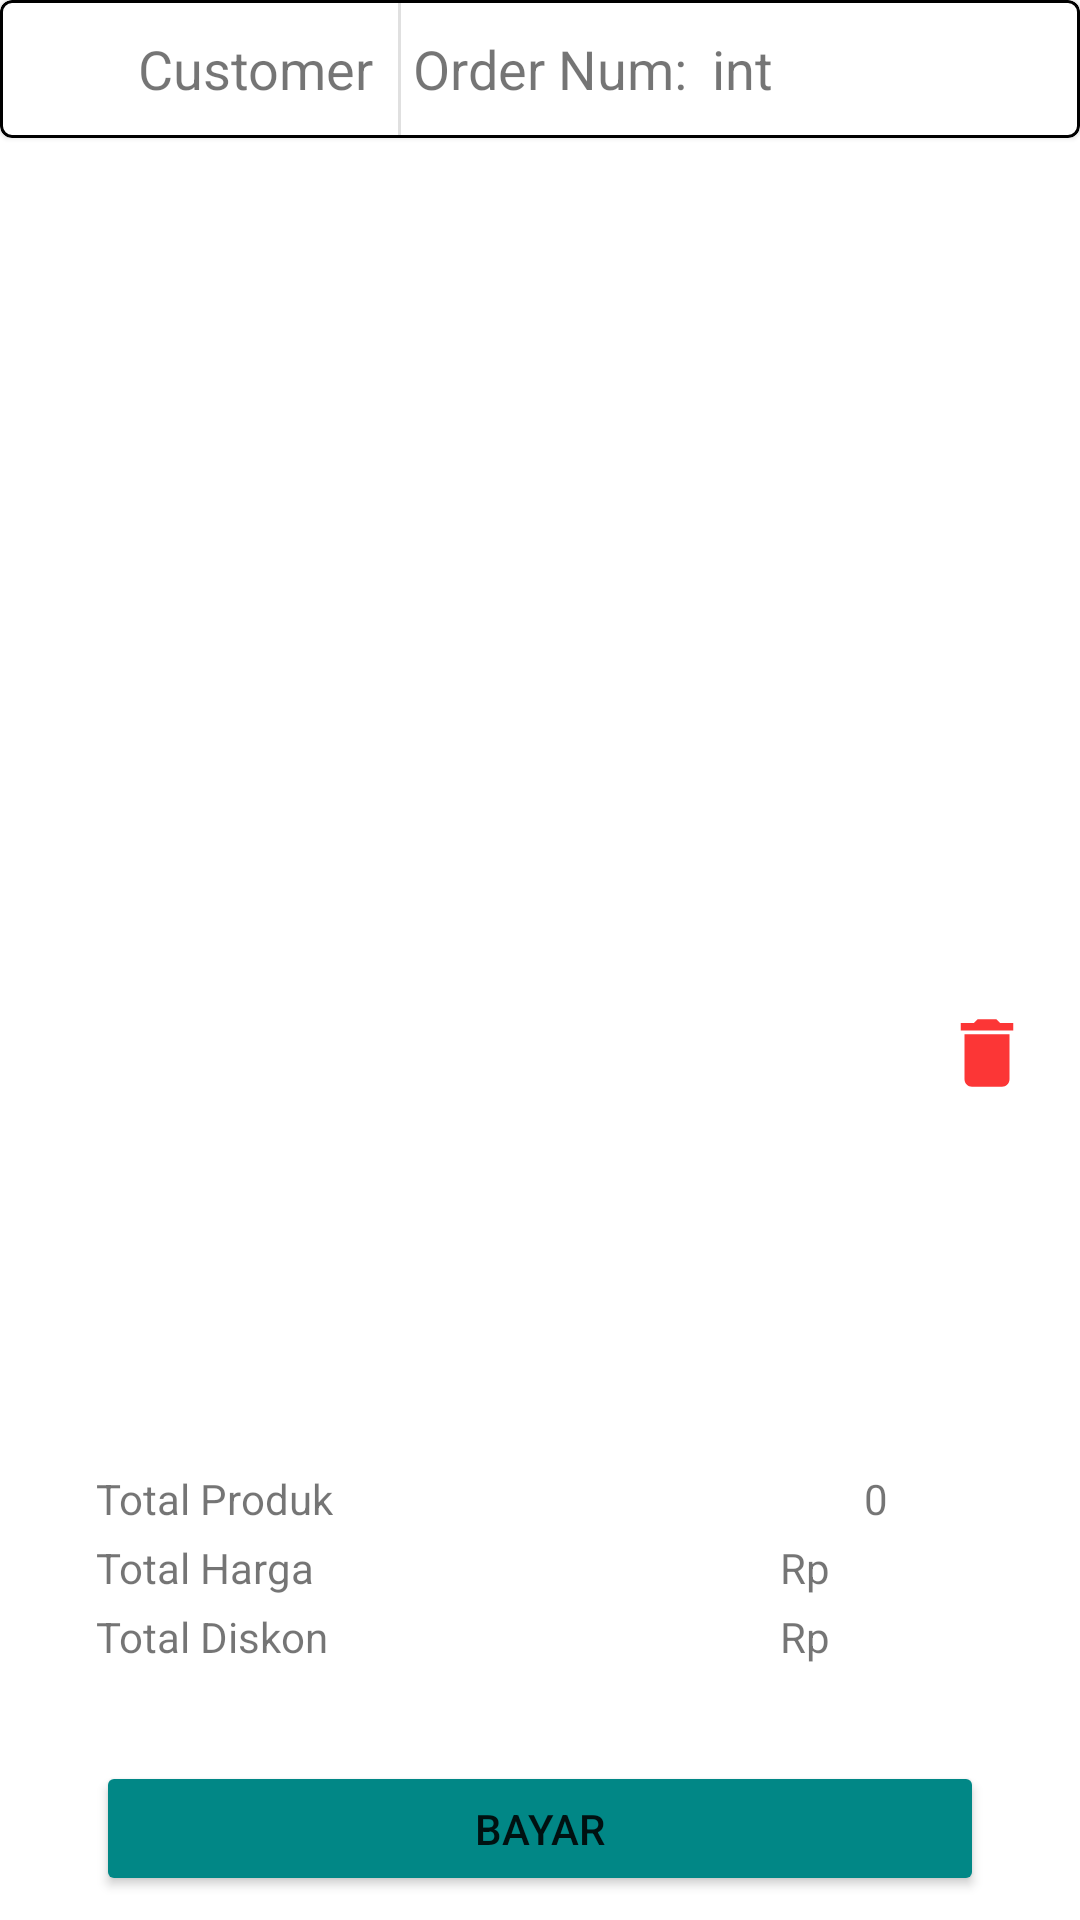

Where to tap for icons on this 1080px x 1920px app screen, as point (x, y):
Delete All Cart Items: point (987, 1053)
